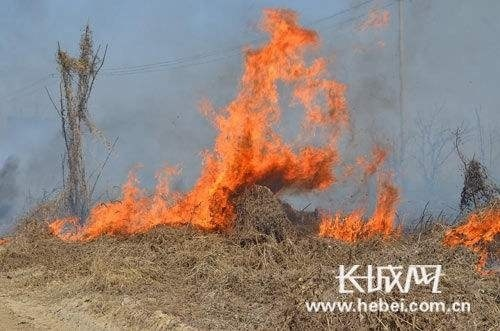fire: (78, 1, 402, 245), (441, 195, 500, 277)
